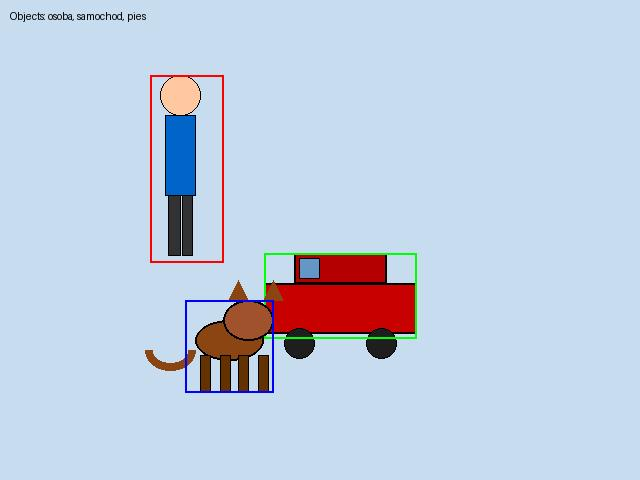osoba: (150, 75, 223, 262)
pies: (185, 300, 273, 392)
samochod: (264, 253, 416, 338)
